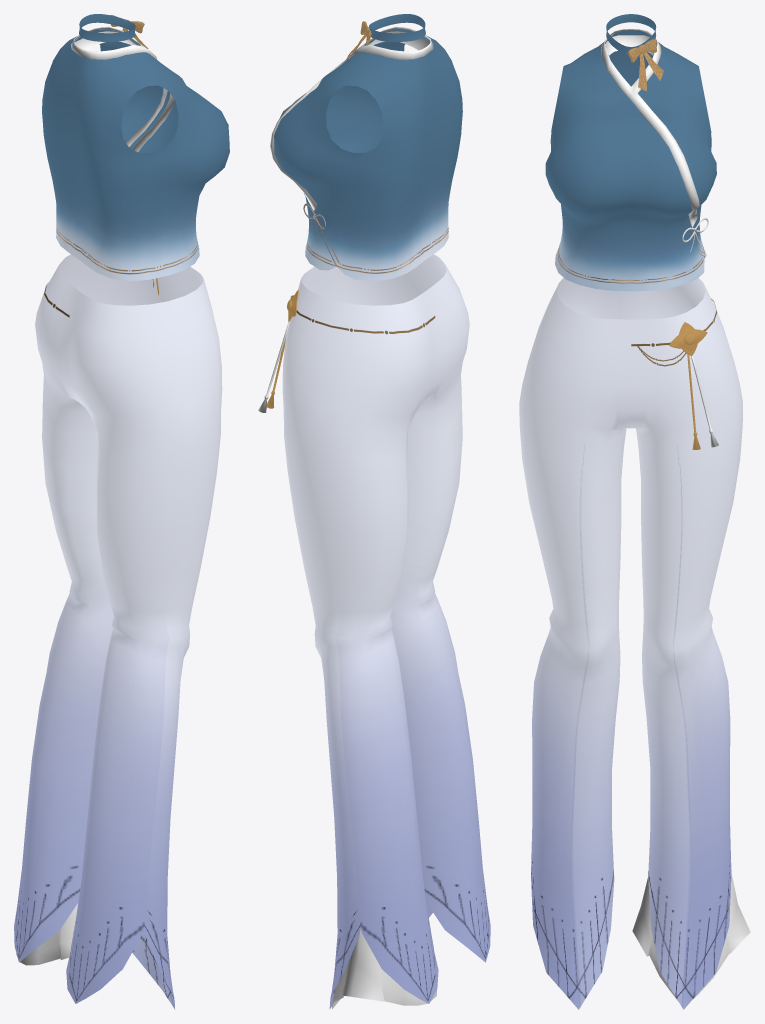
The model's file is prev.glb.
The picture shows the model from 3 angles, left to right: view 1: azimuth 30°, elevation 25°; view 2: azimuth 150°, elevation 25°; view 3: azimuth 270°, elevation 25°; orthographic projection.
Visible parts, largest first — view 1: Cube.002, Cube, Cube.003, Circle; view 2: Cube.002, Cube, Cube.003, Circle; view 3: Cube.002, Cube, Cube.003, Cube.001, Circle, Plane.001, Cylinder.
Boxes of the visible parts, x1,y1,x2,y2 form: Cube.002: [14, 254, 222, 1009]; Cube: [42, 26, 229, 281]; Cube.003: [16, 903, 77, 965]; Circle: [79, 14, 135, 41]; Cube.002: [282, 254, 490, 1009]; Cube: [270, 26, 462, 281]; Cube.003: [332, 929, 436, 1009]; Circle: [369, 14, 425, 41]; Cube.002: [519, 278, 742, 1009]; Cube: [545, 29, 716, 291]; Cube.003: [632, 872, 750, 1001]; Cube.001: [627, 39, 663, 91]; Circle: [606, 14, 656, 54]; Plane.001: [669, 322, 707, 355]; Cylinder: [687, 354, 718, 449].
Bounding box in the file's own units: 0.6504 × 3.74 × 0.8134.
12 materials, 8 textured.
